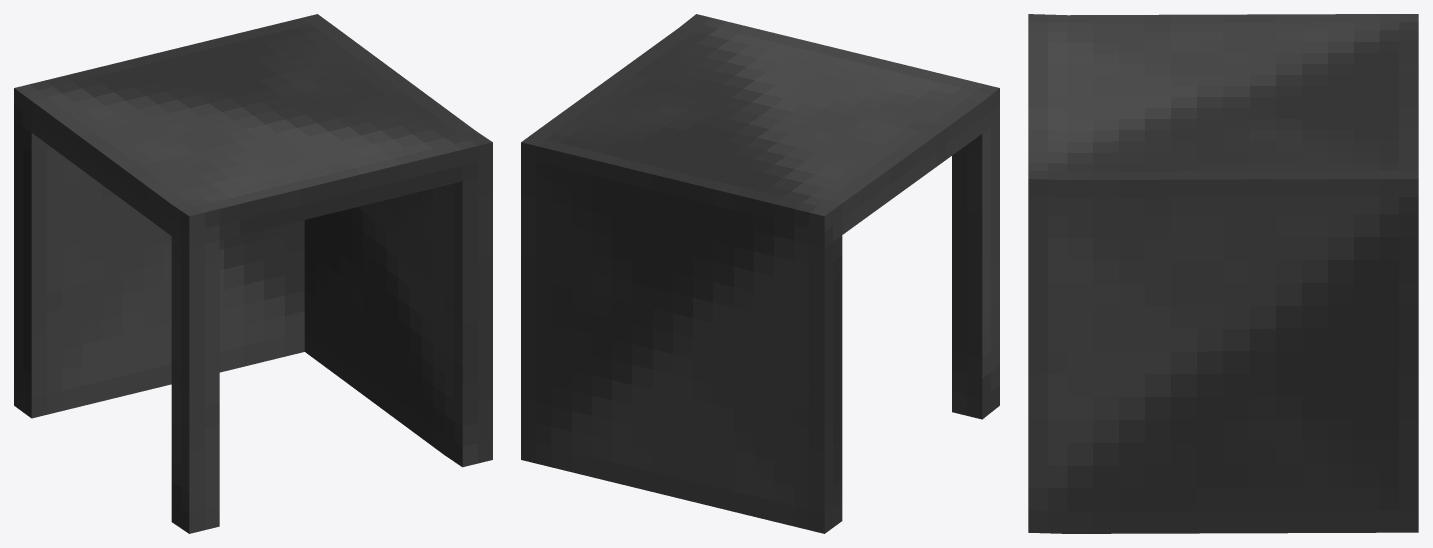
Rendered from vent-bottom-right.glb.
3 views of the same model, side by side, from view 1: azimuth 30°, elevation 25°; view 2: azimuth 150°, elevation 25°; view 3: azimuth 270°, elevation 25° (orthographic). The views are drawn at different scales.
Parts seen in each view (by area): view 1: vent-bottom-right; view 2: vent-bottom-right; view 3: vent-bottom-right.
Boxes of the visible parts, x1=… form: vent-bottom-right: x1=14, y1=14, x2=492, y2=533; vent-bottom-right: x1=521, y1=14, x2=999, y2=533; vent-bottom-right: x1=1028, y1=14, x2=1418, y2=533.
Bounding box in the file's own units: 1 × 1 × 1.
1 material, 1 textured.
